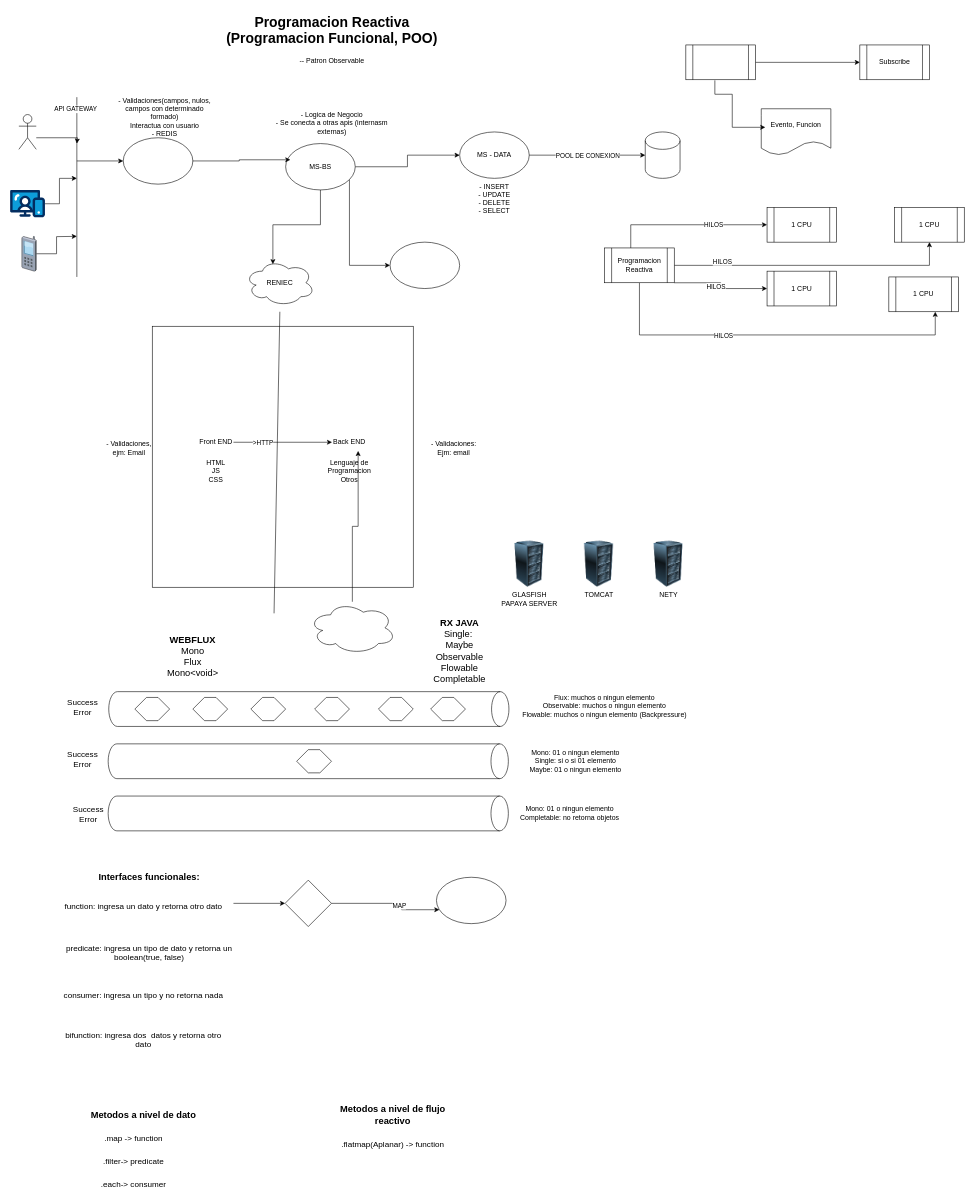
The diagram is 974 pixels wide and 1203 high, and some of its shapes have lost their labels. Each missing label, with the centre of its shape:
Actor: point (27, 131)
BD: point (662, 154)
MS-BS01: point (424, 265)
MS-UX(Experiencia de usuario) - BFF: point (158, 160)
Observable: point (720, 62)
POSTMAN, CURL, BATCH, ETC: point (352, 627)
